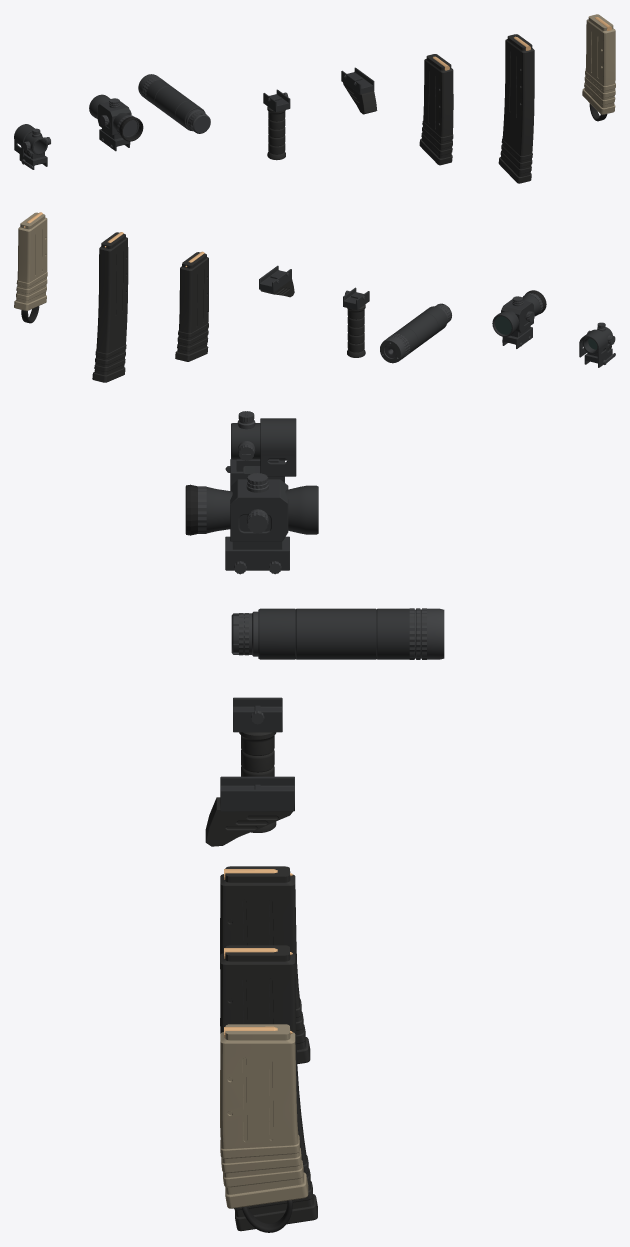
The model's file is attachments.glb.
The picture shows the model from 3 angles, top to bottom: view 1: azimuth 30°, elevation 25°; view 2: azimuth 150°, elevation 25°; view 3: azimuth 270°, elevation 25°; orthographic projection. The views are drawn at different scales.
Parts seen in each view (by area): view 1: mag_ext_mesh, mag_std_mesh, mag_quick_mesh, suppressor_mesh, optic_prism_mesh, grip_vertical_mesh, optic_reflex_mesh, grip_angled_mesh; view 2: mag_ext_mesh, mag_std_mesh, mag_quick_mesh, suppressor_mesh, optic_prism_mesh, grip_vertical_mesh, optic_reflex_mesh, grip_angled_mesh, obj_glass; view 3: mag_quick_mesh, suppressor_mesh, optic_prism_mesh, mag_ext_mesh, mag_std_mesh, grip_angled_mesh, optic_reflex_mesh, grip_vertical_mesh.
Part boxes in pixels (x1,y1,x2,y2): mag_ext_mesh: (498,34,534,183); mag_std_mesh: (419,54,453,165); mag_quick_mesh: (582,14,615,121); suppressor_mesh: (138,74,210,133); optic_prism_mesh: (89,94,143,151); grip_vertical_mesh: (263,89,290,160); optic_reflex_mesh: (14,124,50,169); grip_angled_mesh: (341,67,377,114); mag_ext_mesh: (92,232,128,382); mag_std_mesh: (175,251,208,361); mag_quick_mesh: (14,212,47,323); suppressor_mesh: (380,303,451,363); optic_prism_mesh: (492,290,546,348); grip_vertical_mesh: (343,287,369,357); optic_reflex_mesh: (579,322,615,367); grip_angled_mesh: (259,265,294,297); obj_glass: (494,316,511,334); mag_quick_mesh: (220,1024,308,1232); suppressor_mesh: (231,608,444,659); optic_prism_mesh: (185,473,318,574); mag_ext_mesh: (220,945,317,1231); mag_std_mesh: (220,866,310,1063); grip_angled_mesh: (205,776,294,846); optic_reflex_mesh: (225,411,296,486); grip_vertical_mesh: (233,697,282,832).
Bounding box in the file's own units: 1.08 × 0.3132 × 0.208.
